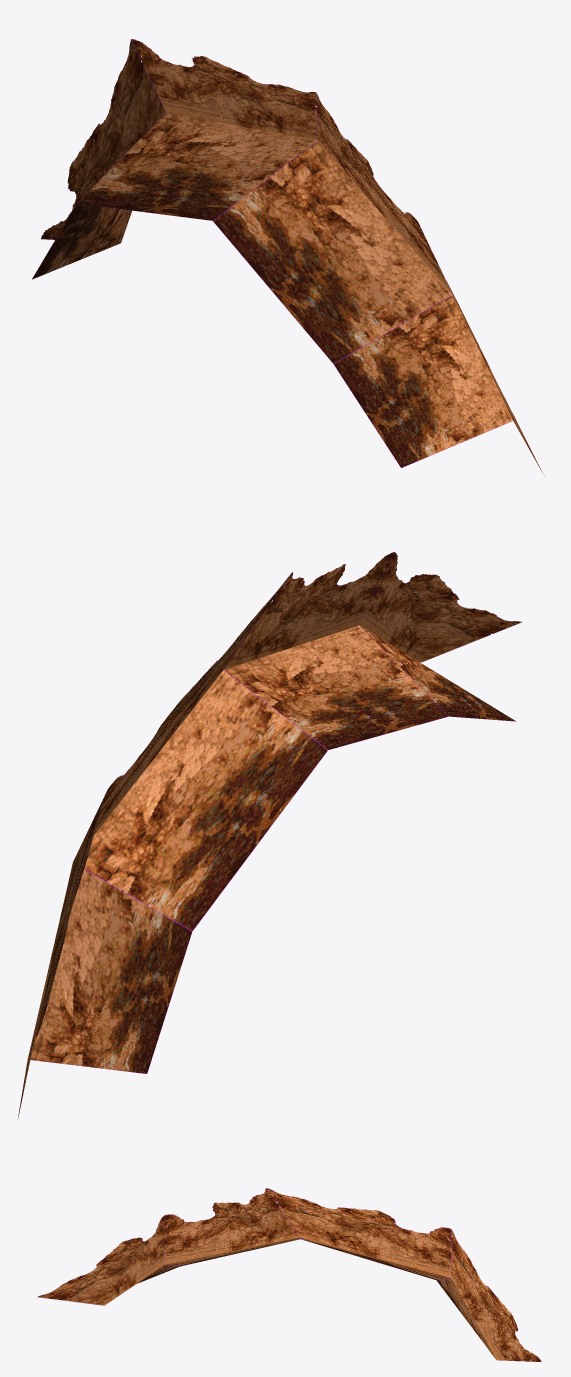
Rendered from _TR1RCK.obj.
The picture shows the model from 3 angles, top to bottom: view 1: azimuth 30°, elevation 25°; view 2: azimuth 150°, elevation 25°; view 3: azimuth 270°, elevation 25°; orthographic projection. The views are drawn at different scales.
Size of the model in its own units: 208 by 728 by 1872.
1 material, 1 textured.
